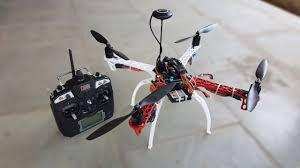drone: (85, 23, 268, 149)
